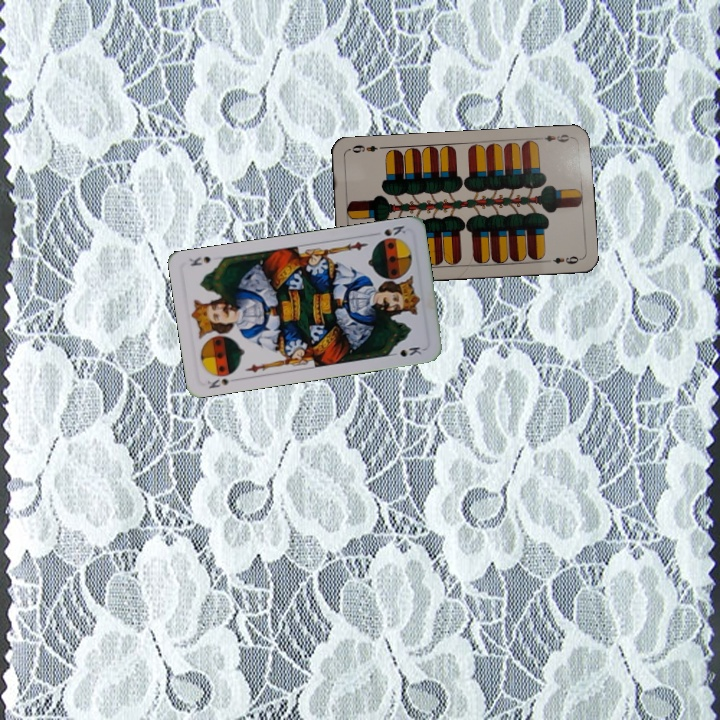E9: (534, 130, 575, 145)
SK: (380, 221, 408, 239), (204, 374, 233, 391)
